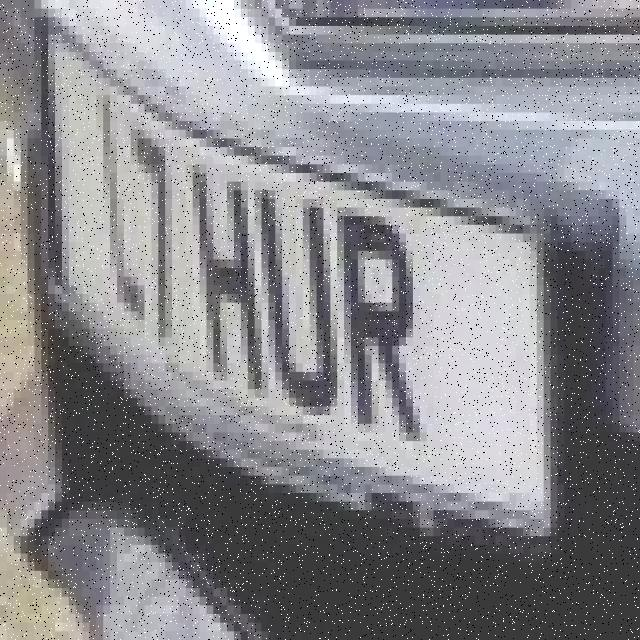licenseplate: (31, 16, 568, 530)
